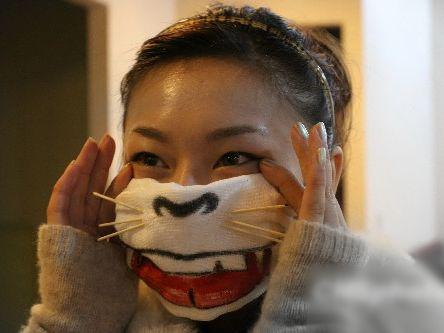OK: (125, 120, 315, 310)
